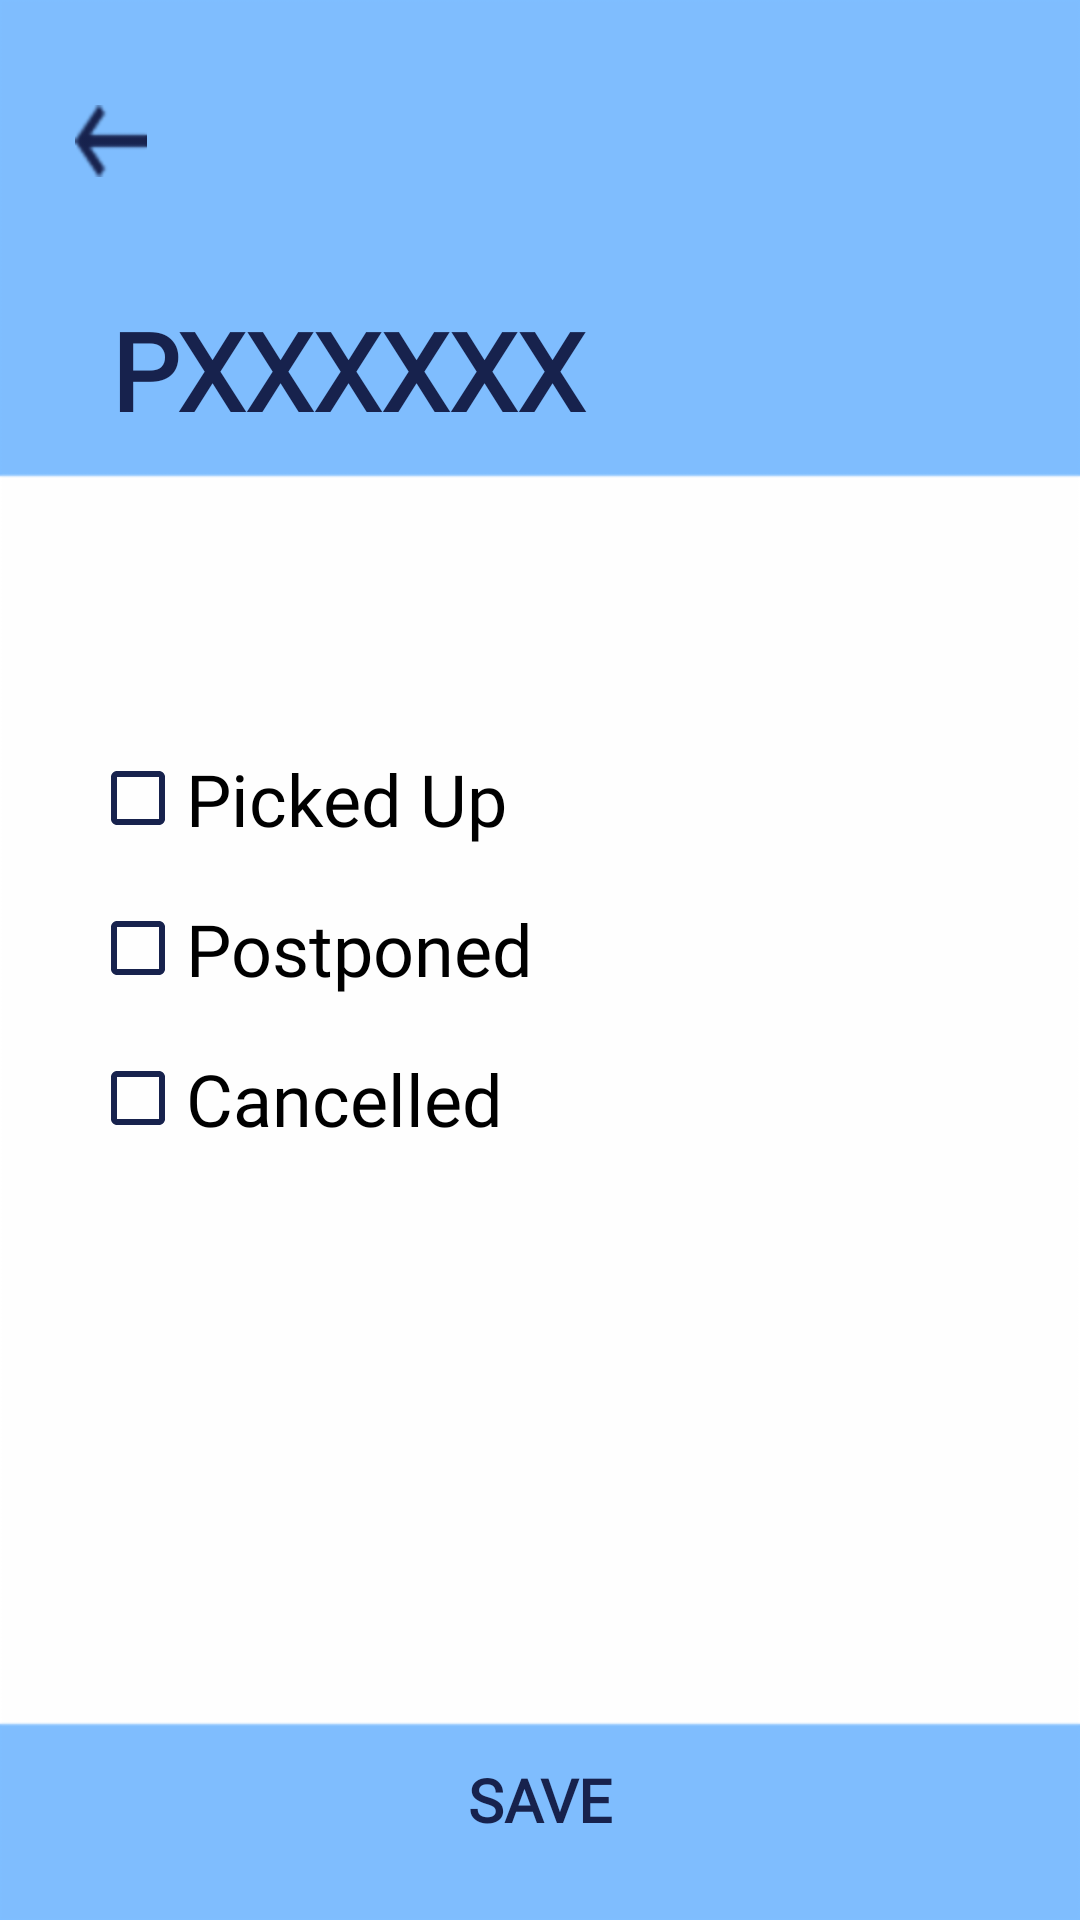

Named icons in this screenshot (1080×1920) and their bounding boxes, box(x1, y1, x2, y2):
back arrow: box(75, 105, 147, 177)
